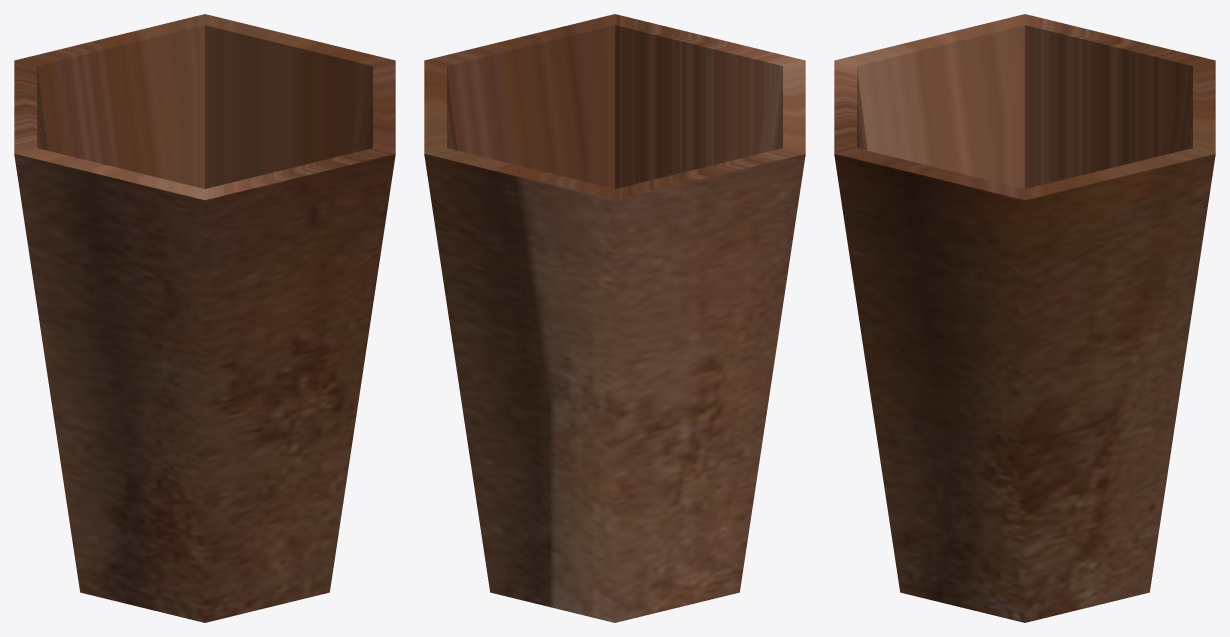
File: cup4.FBX
3 renders of one model, left to right at view 1: azimuth 30°, elevation 25°; view 2: azimuth 150°, elevation 25°; view 3: azimuth 270°, elevation 25°, orthographic.
Visible parts, largest first — view 1: Cylinder001; view 2: Cylinder001; view 3: Cylinder001.
Part boxes in pixels (box(x1,y1,x2,y2)): Cylinder001: box(14, 14, 395, 622); Cylinder001: box(424, 14, 805, 622); Cylinder001: box(834, 14, 1215, 622).
Size of the model in its own units: 93.57 by 107 by 81.04.
1 material, 1 textured.
